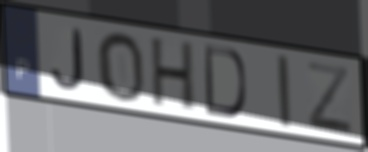D: (202, 42, 249, 121)
H: (150, 36, 196, 115)
I: (274, 53, 293, 130)
J: (49, 26, 87, 92)
O: (94, 30, 147, 104)
Z: (304, 59, 355, 138)
